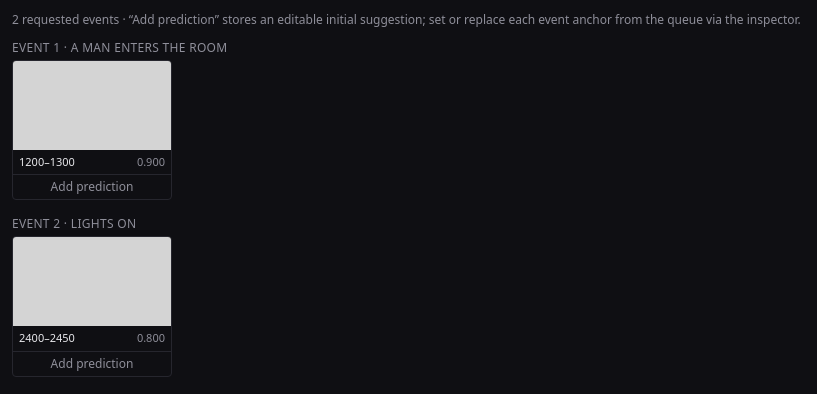
it: TrakeResults › adds one window as a single sequence prediction with N anchors
Step 1. Click the button "Add prediction" below "a man enters the room" → [92, 187], box [13, 174, 171, 199]
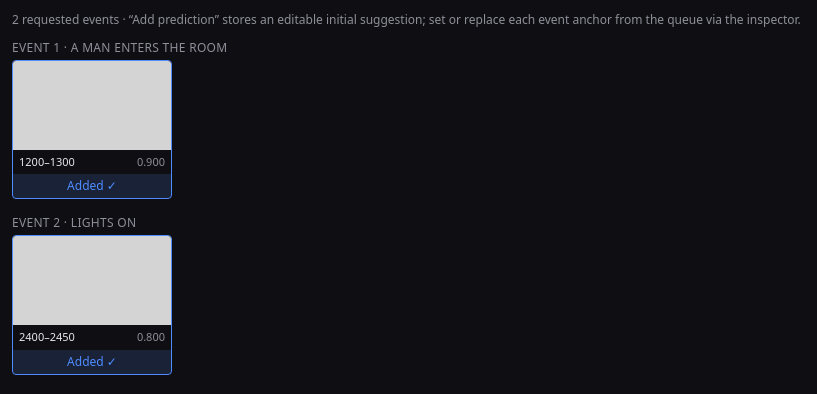
Expected: the button "Added ✓" below "a man enters the room" is disabled, [13, 174, 171, 198]
